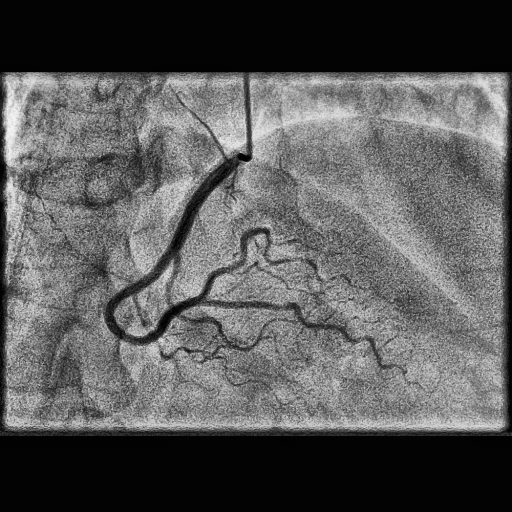pborca: (199, 227, 322, 299)
pda: (202, 300, 428, 393)
rca: (104, 154, 241, 346)
